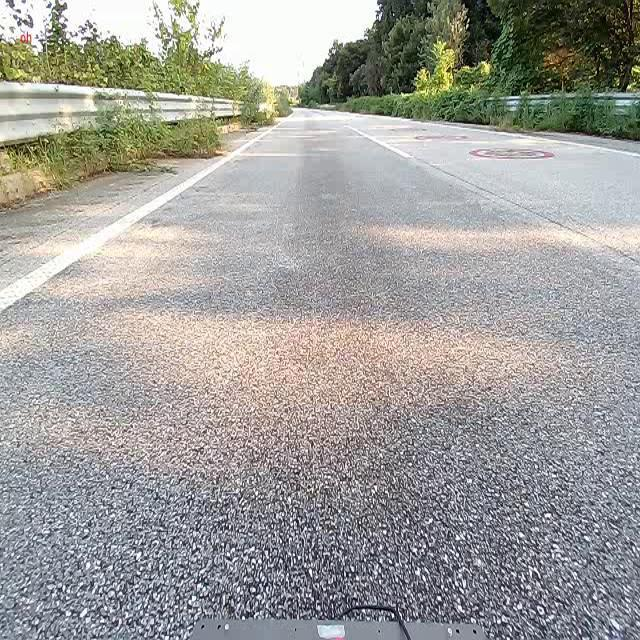Lane: (0, 122, 284, 314), (0, 123, 278, 313)
